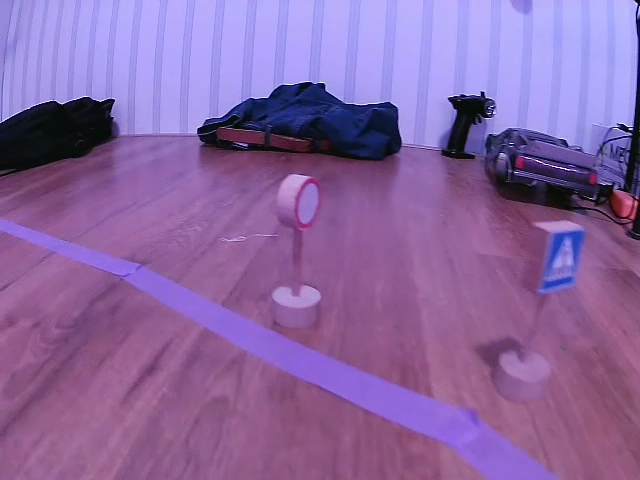wegdicht: (290, 177, 323, 231)
zebrapad: (543, 226, 582, 291)
